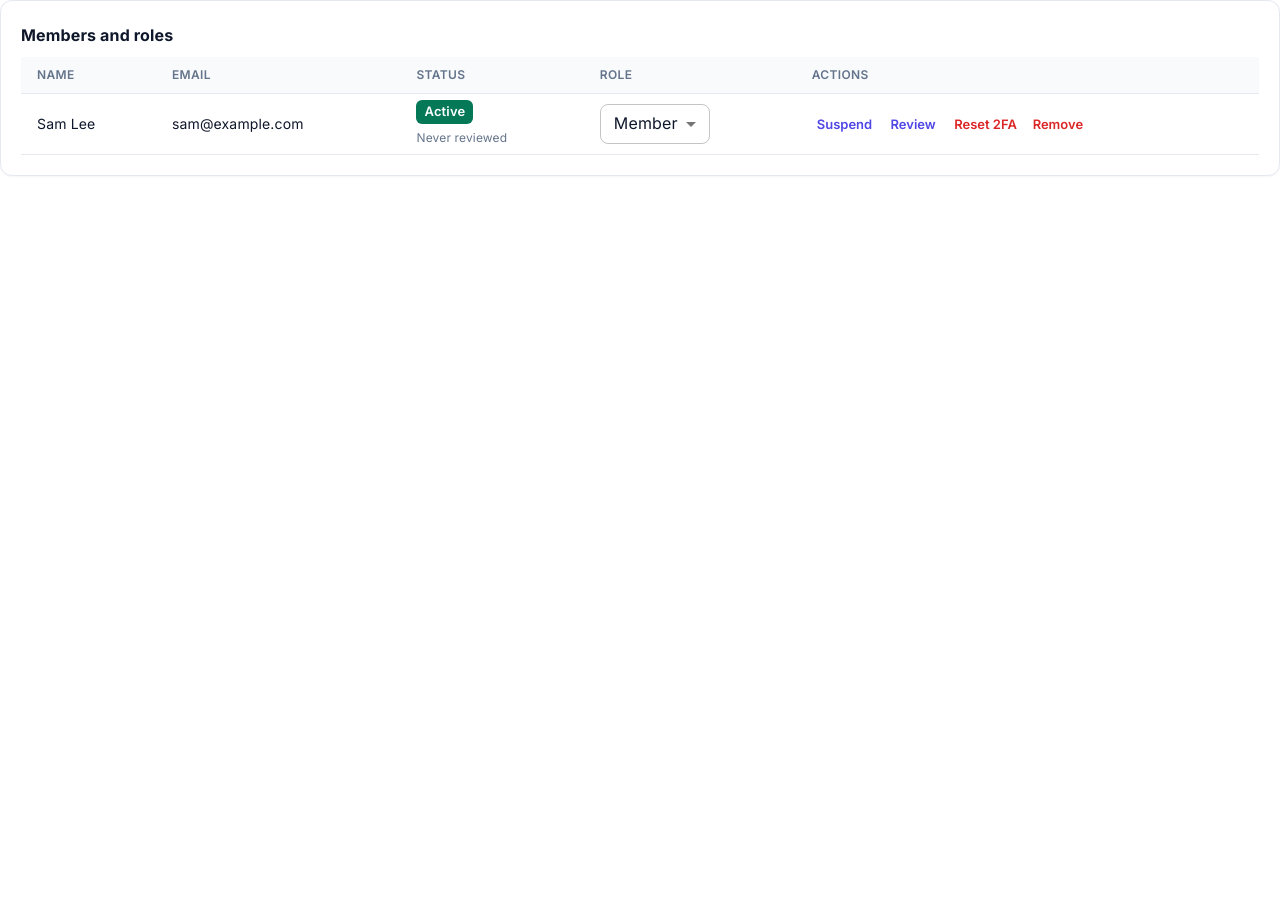
Scenario: Two-factor reset by an administrator › lets an organization admin reset a member after confirming
Click the button with aria-label "Reset two-factor authentication for Sam Lee" at (985, 124), box [949,109,1022,139]
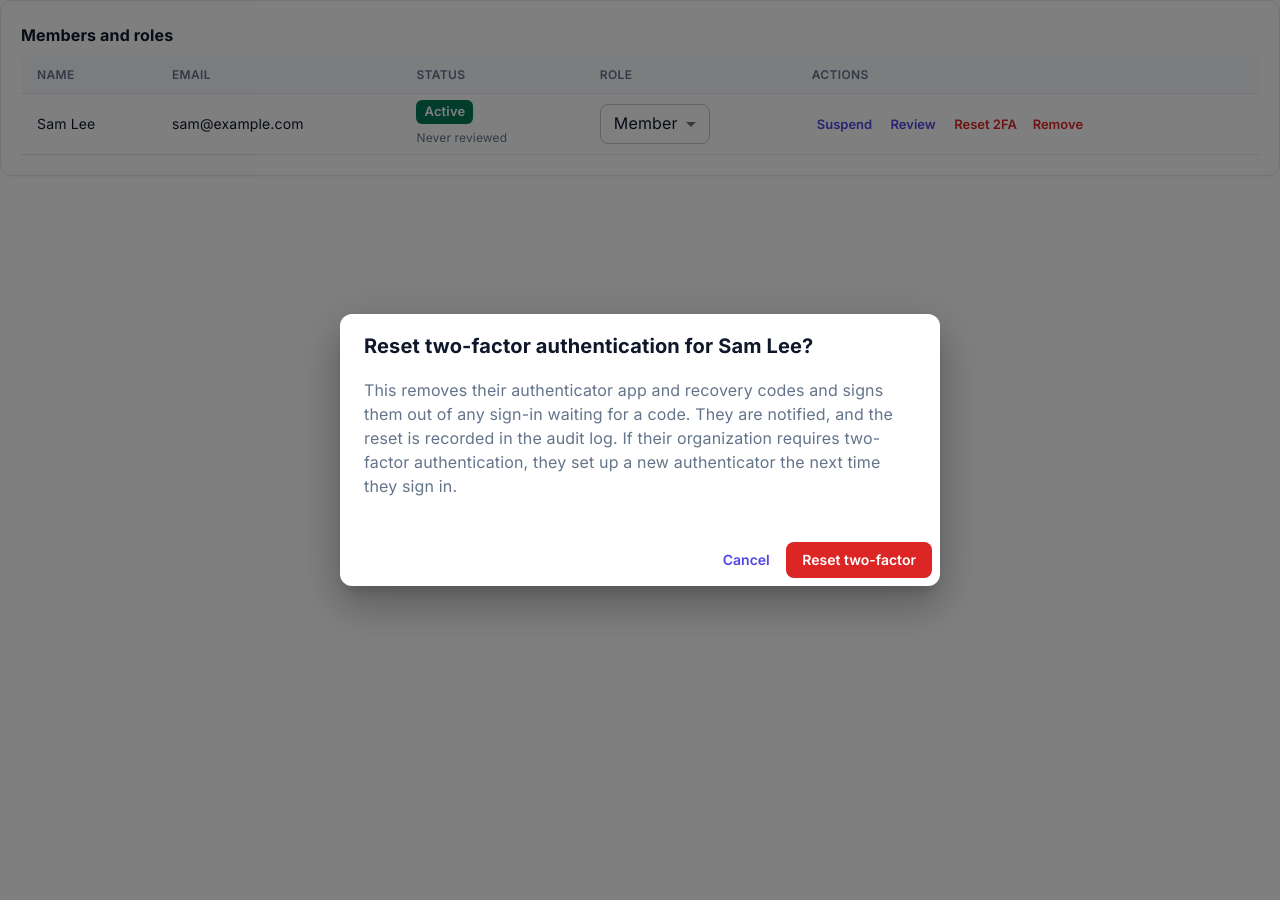
Result: the heading "Reset two-factor authentication for Sam Lee?" is shown at [364,334,813,358]
Click the button "Reset two-factor" at (859, 560), box [786,542,932,578]
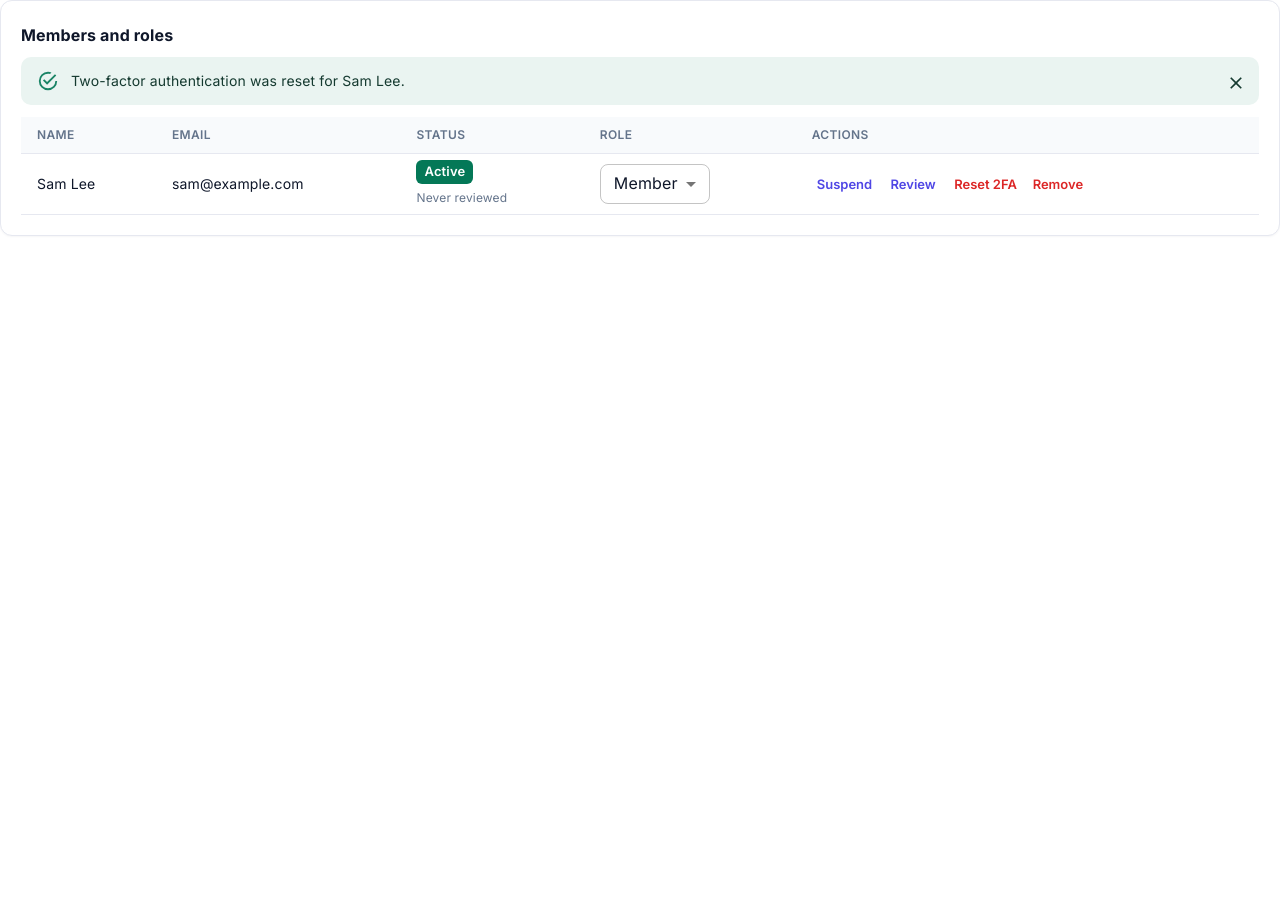
Result: the text "Two-factor authentication was reset for Sam Lee." is shown at [71,72,405,89]
